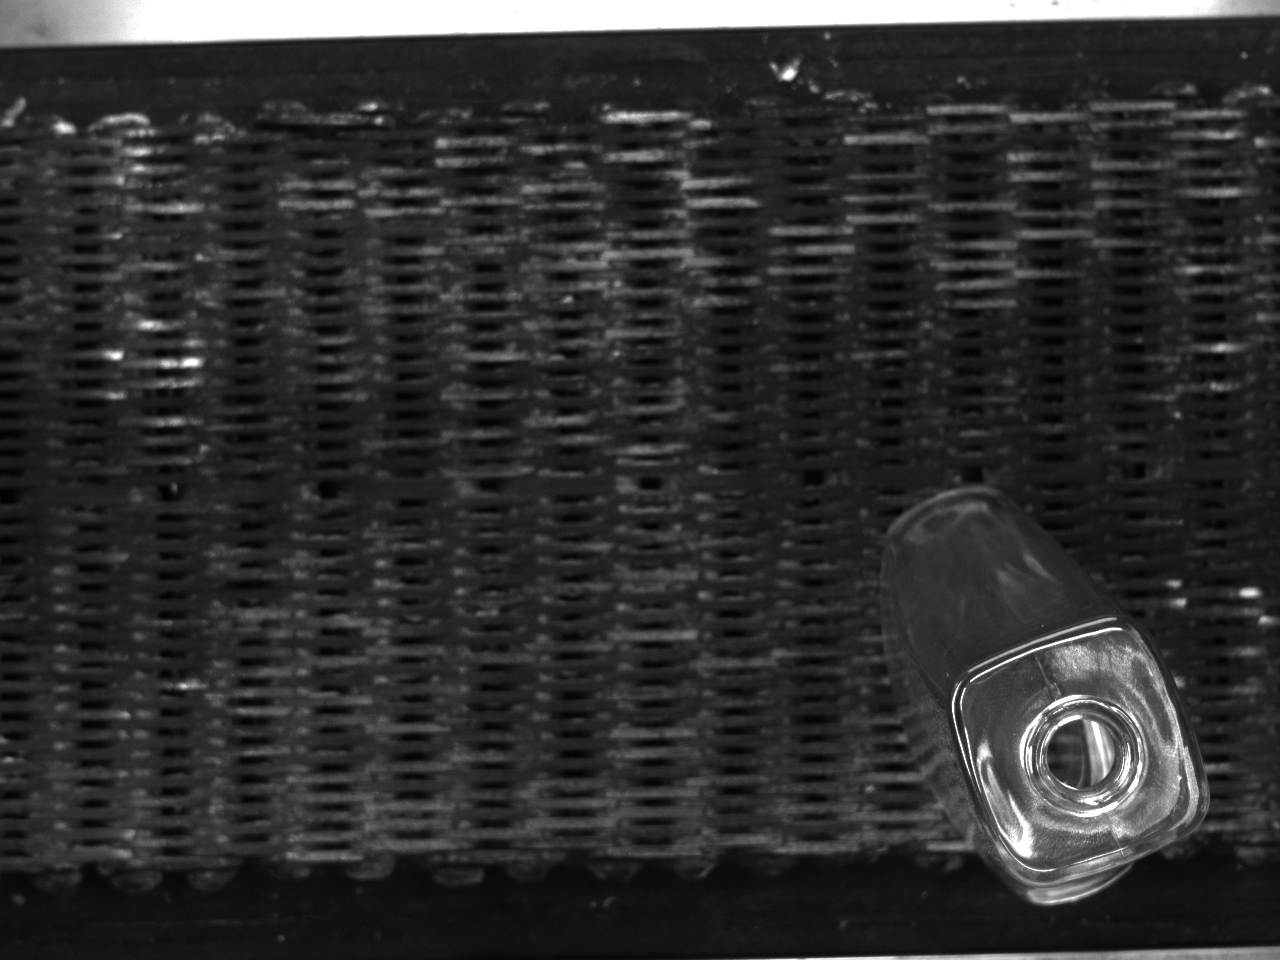bottleneck: (1026, 694, 1147, 814)
